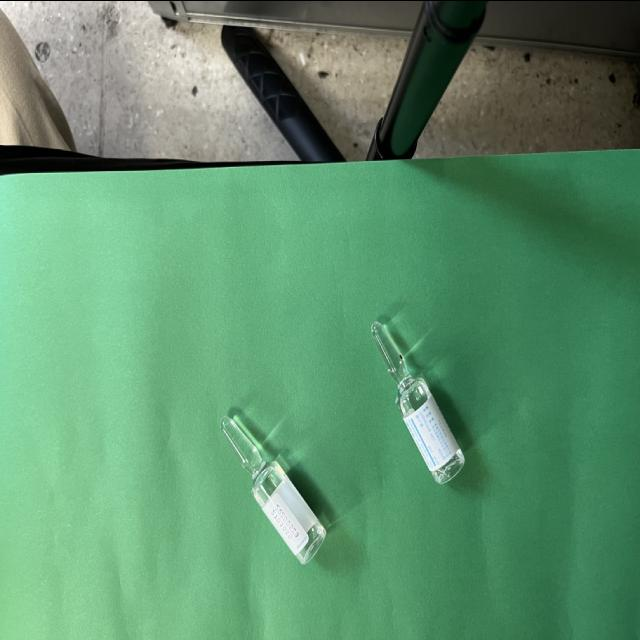Ampoules: (222, 415, 328, 565), (372, 321, 466, 485)
